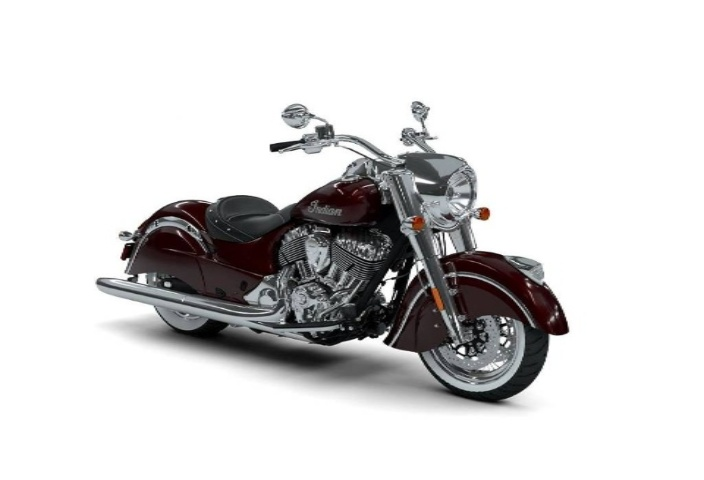motorcycle: (72, 90, 588, 424)
